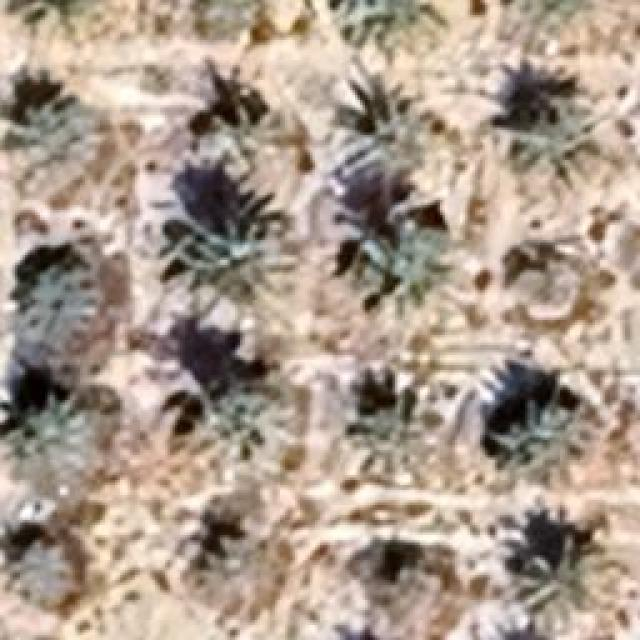PalmTree: (185, 212, 300, 330), (57, 22, 379, 58), (330, 77, 435, 185), (359, 376, 469, 479), (510, 76, 602, 182), (180, 102, 290, 190), (190, 368, 295, 456), (362, 538, 456, 624), (510, 532, 590, 632), (5, 372, 85, 472), (487, 402, 575, 490), (498, 236, 595, 314), (187, 522, 275, 596), (15, 526, 90, 609), (12, 270, 98, 342), (360, 242, 452, 308), (12, 95, 90, 170), (494, 0, 602, 45), (168, 0, 270, 41)
